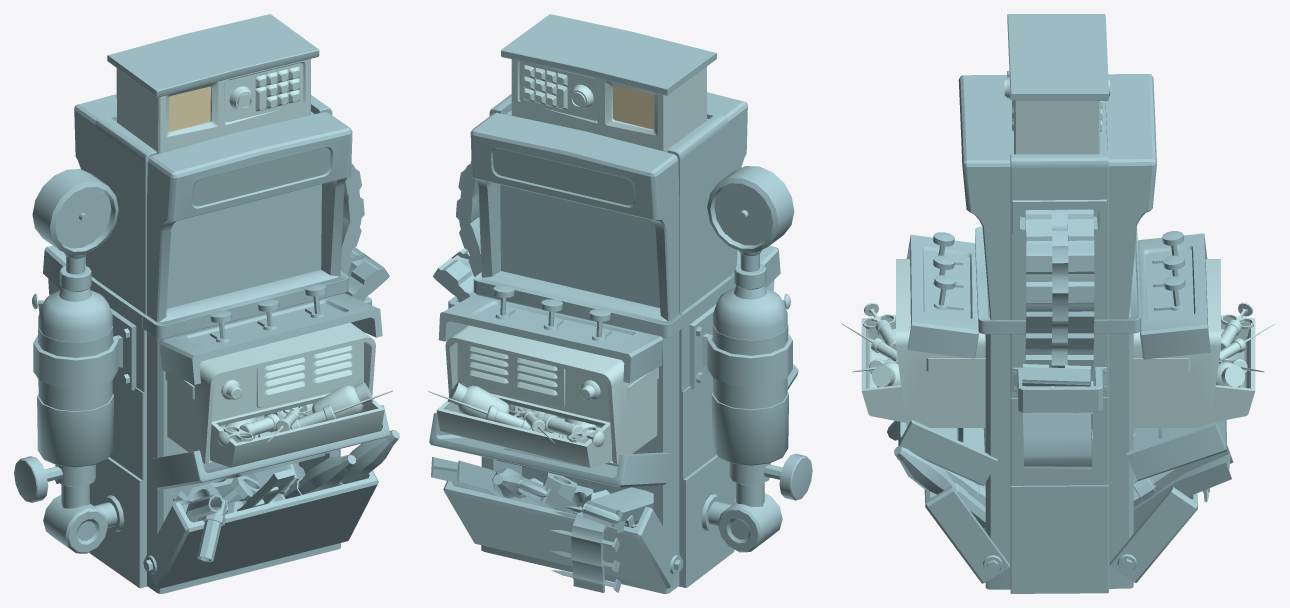
Rendered from dispenser.fbx.
3 views of the same model, side by side, from view 1: azimuth 30°, elevation 25°; view 2: azimuth 150°, elevation 25°; view 3: azimuth 270°, elevation 25° (orthographic).
Parts seen in each view (by area): view 1: dispenser_lvl3; view 2: dispenser_lvl3; view 3: dispenser_lvl3.
Boxes of the visible parts, box(x1,y1,x2,y2) form: dispenser_lvl3: box(14, 14, 399, 593); dispenser_lvl3: box(428, 14, 812, 593); dispenser_lvl3: box(841, 14, 1275, 593).
Bounding box in the file's own units: 4775 × 6423 × 5128.
